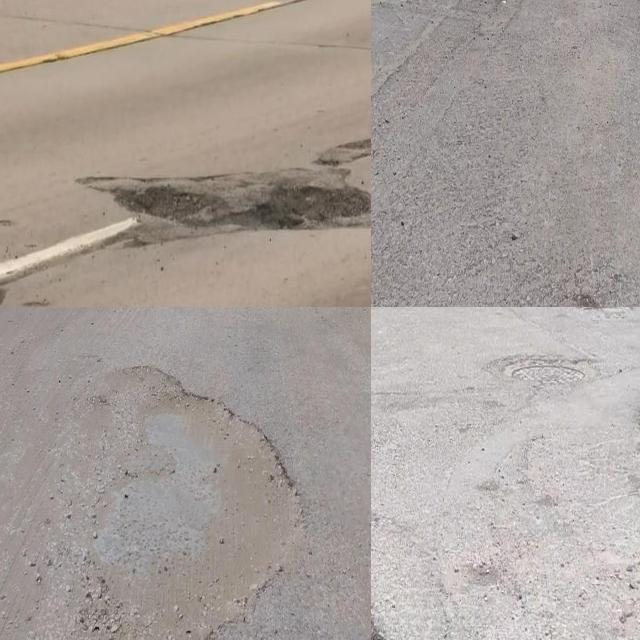Manhole: (511, 363, 585, 384)
Pothole: (72, 363, 308, 640), (82, 169, 371, 240), (78, 166, 371, 228), (78, 169, 351, 227)
